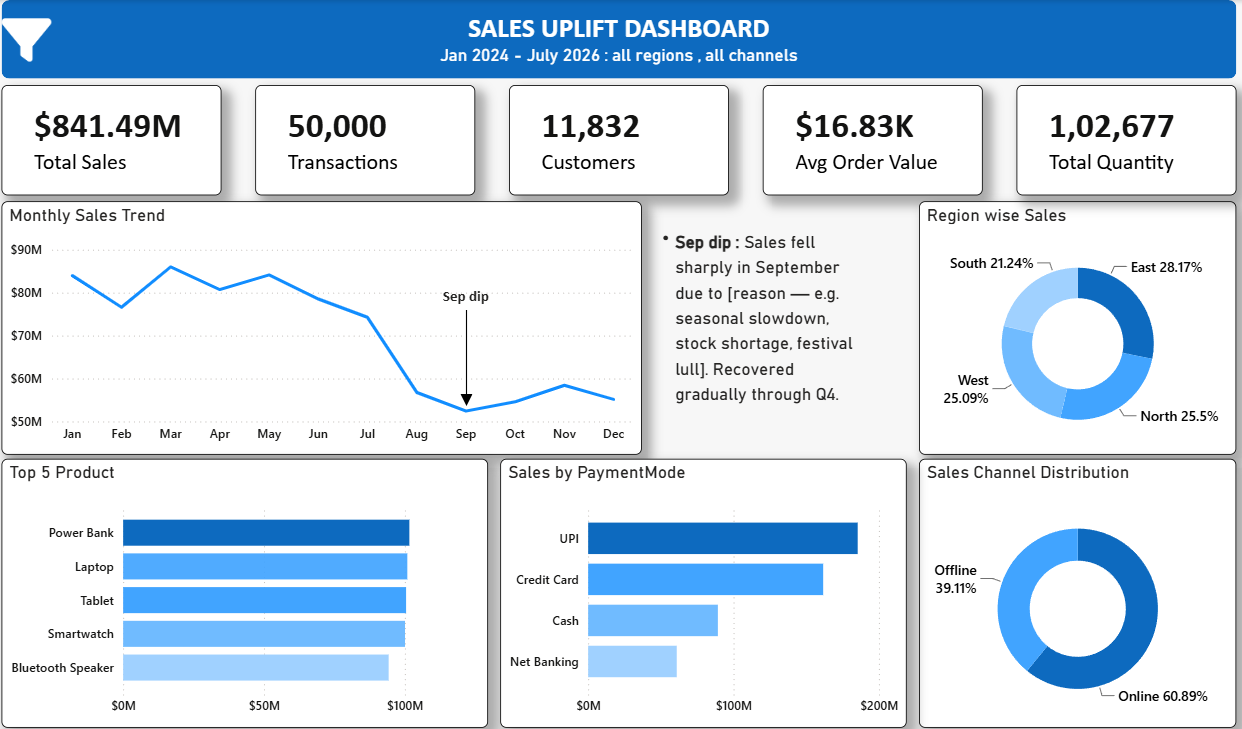

The page's visual inventory and layout, read from the dashboard file:
{"tool":"powerbi","page":{"name":"Overview","canvas":[1280,720],"ordinal":0},"visuals":[{"type":"shape","box":[36.7,0,1208.2,77],"z":0},{"type":"textbox","box":[407.2,6.1,467.1,66],"z":1000},{"type":"cardVisual","fields":{"Data":["Measure (2).Total Sales"]},"box":[36.7,83.2,215.2,107.6],"z":2000},{"type":"cardVisual","fields":{"Data":["Measure (2).Total Transactions"]},"box":[284.9,83.6,215.2,107.6],"z":3000},{"type":"cardVisual","fields":{"Data":["Measure (2).Unique Customers"]},"box":[533.2,83.6,215.2,107.6],"z":4000},{"type":"cardVisual","fields":{"Data":["Measure (2).Avg Order Value"]},"box":[781.4,83.6,215.2,107.6],"z":5000},{"type":"lineChart","title":"Monthly Sales Trend","fields":{"Y":["Measure (2).Total Sales"],"Category":["retail_transactions.Month Short"]},"box":[36.7,196.9,626.1,248.2],"z":6000},{"type":"clusteredBarChart","title":"Top 5 Product","fields":{"Category":["retail_transactions.ProductName"],"Y":["Measure (2).Total Sales"]},"box":[36.7,448.8,475.7,262.9],"z":7000},{"type":"donutChart","title":"Region wise Sales","fields":{"Y":["Measure (2).Total Sales"],"Category":["retail_transactions.Region"]},"box":[934.2,196.9,310.6,248.2],"z":8000},{"type":"donutChart","title":"Sales Channel Distribution","fields":{"Y":["Measure (2).Total Sales"],"Category":["retail_transactions.SalesChannel"]},"box":[934.2,448.8,310.6,262.9],"z":9000},{"type":"clusteredBarChart","title":"Sales by PaymentMode","fields":{"Category":["retail_transactions.PaymentMode"],"Y":["Measure (2).Total Sales"]},"box":[524.6,448.8,397.4,262.9],"z":10000},{"type":"cardVisual","fields":{"Data":["Measure (2).Total Quantity"]},"box":[1029.6,83.2,215.2,107.6],"z":11000},{"type":"shape","box":[485.5,303.3,12.2,94.2],"z":12000},{"type":"textbox","box":[662.8,217.7,218.9,207.9],"z":13000},{"type":"textbox","box":[463.5,275.1,57.5,28.1],"z":14000},{"type":"image","box":[36.7,14.7,48.9,48.9],"z":16000}]}

Visuals, with their boxes in screenshot pixels (x1, y1, x2, y2):
shape: rect(0, 0, 1235, 73)
textbox: rect(374, 0, 854, 68)
cardVisual - Measure (2).Total Sales: rect(0, 79, 214, 190)
cardVisual - Measure (2).Total Transactions: rect(248, 80, 469, 190)
cardVisual - Measure (2).Unique Customers: rect(503, 80, 724, 190)
cardVisual - Measure (2).Avg Order Value: rect(758, 80, 980, 190)
"Monthly Sales Trend" lineChart: rect(0, 196, 636, 451)
"Top 5 Product" clusteredBarChart: rect(0, 455, 482, 726)
"Region wise Sales" donutChart: rect(916, 196, 1235, 451)
"Sales Channel Distribution" donutChart: rect(916, 455, 1235, 726)
"Sales by PaymentMode" clusteredBarChart: rect(494, 455, 903, 726)
cardVisual - Measure (2).Total Quantity: rect(1014, 79, 1235, 190)
shape: rect(454, 305, 467, 402)
textbox: rect(636, 217, 862, 431)
textbox: rect(431, 276, 491, 305)
image: rect(0, 9, 43, 59)
